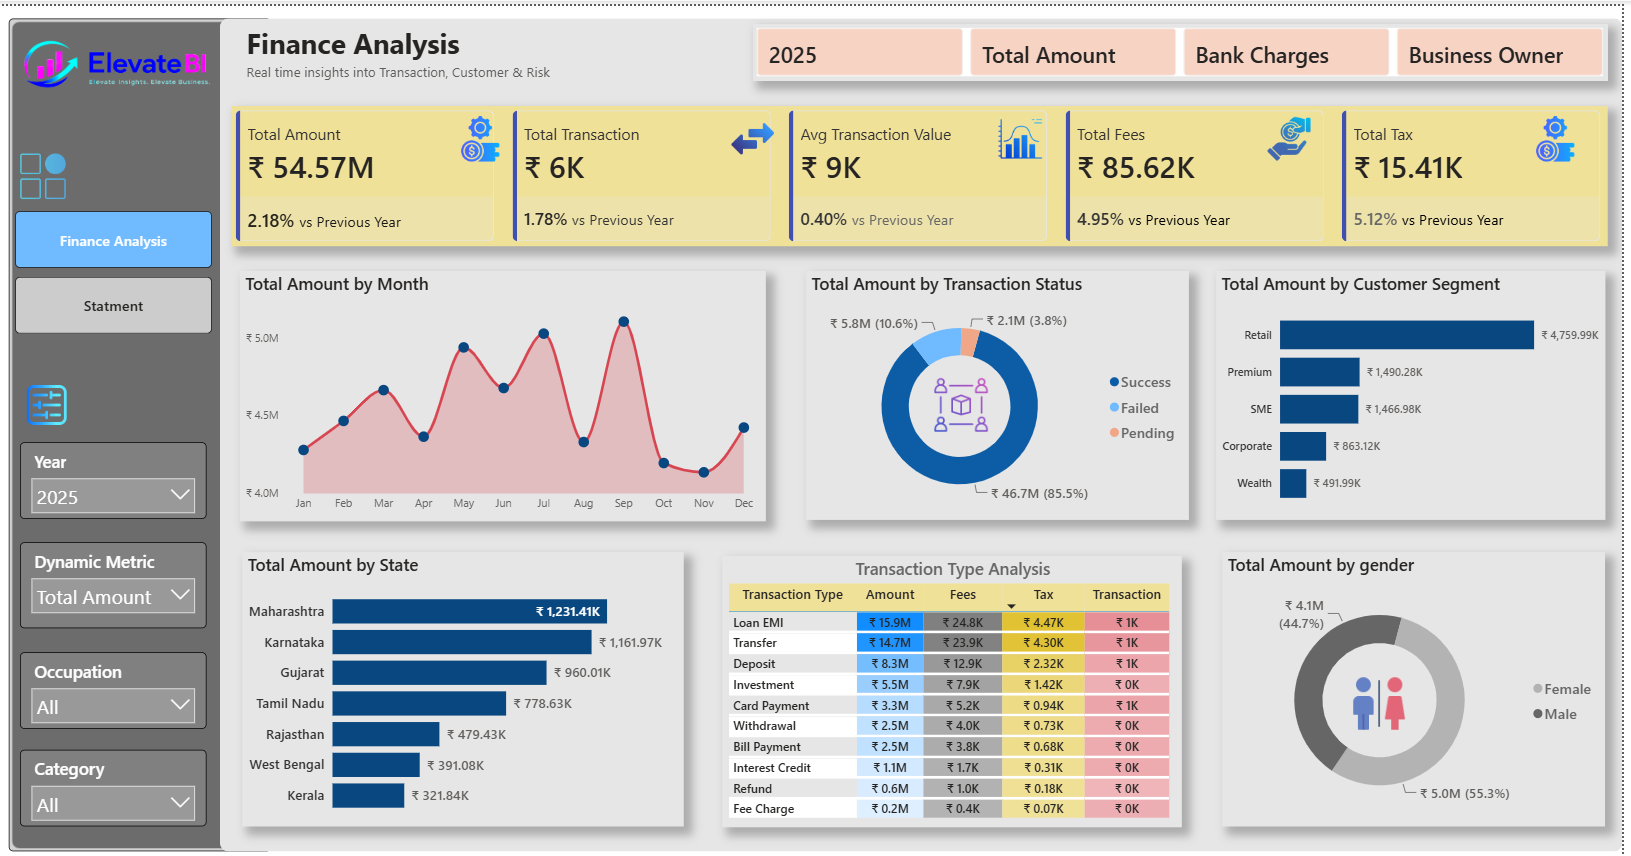

What the dashboard file says about the page in this screenshot:
{"tool":"powerbi","page":{"name":"Finance Analysis ","canvas":[1800,950],"ordinal":0},"visuals":[{"type":"shape","box":[15,13.3,290,921.7],"z":0},{"type":"shape","box":[248.3,13.3,1551.7,921.7],"z":1000},{"type":"image","box":[15,15,233.3,101.7],"z":2000},{"type":"cardVisual","fields":{"Data":["finance_transactions.Dashboard Title"]},"box":[261.7,13.3,370,75],"z":3000},{"type":"cardVisual","fields":{"Data":["finance_transactions.Total Amount","finance_transactions.Total Transaction","finance_transactions.Avg Transaction Value","finance_transactions.Total Fees","finance_transactions.Total Tax"]},"box":[261.7,110,1523.3,155],"z":4000},{"type":"slicer","fields":{"Values":["Calendra Table.Year"]},"box":[28.3,483.3,206.7,85],"z":5000},{"type":"image","box":[511.7,121.7,50,50],"z":6000},{"type":"image","box":[813.3,121.7,50,50],"z":7000},{"type":"image","box":[1110,121.7,50,50],"z":8000},{"type":"image","box":[1406.7,121.7,50,50],"z":9000},{"type":"image","box":[1701.7,121.7,50,50],"z":10000},{"type":"slicer","fields":{"Values":["Dynamic Metric.Dynamic Metric"]},"box":[28.3,593.3,206.7,95],"z":11000},{"type":"areaChart","fields":{"Y":["finance_transactions.Total Fees"],"Category":["Calendra Table.Month"]},"box":[271.7,293.3,581.7,276.7],"z":13000},{"type":"donutChart","fields":{"Y":["finance_transactions.Total Fees"],"Category":["finance_transactions.transaction_status"]},"box":[898.3,293.3,423.3,275],"z":15000},{"type":"barChart","fields":{"Y":["finance_transactions.Total Fees"],"Category":["customers.customer_segment"]},"box":[1351.7,293.3,430,275],"z":17000},{"type":"barChart","fields":{"Y":["finance_transactions.Total Fees"],"Category":["customers.state"]},"box":[273.3,605,488.3,303.3],"z":19000},{"type":"tableEx","title":"Transaction Type Analysis","fields":{"Values":["finance_transactions.transaction_type","finance_transactions.Total Amount","finance_transactions.Total Fees","finance_transactions.Total Tax","finance_transactions.Total Transaction"]},"box":[805,608.3,508.3,300],"z":21000},{"type":"donutChart","fields":{"Y":["finance_transactions.Total Fees"],"Category":["customers.gender"]},"box":[1358.3,605,423.3,303.3],"z":23000},{"type":"image","box":[1034,410,68,64],"z":24000},{"type":"image","box":[1492,738,78,66],"z":25000},{"type":"slicer","fields":{"Values":["customers.occupation"]},"box":[28.3,715,206.7,85],"z":26000},{"type":"slicer","fields":{"Values":["finance_transactions.merchant_category"]},"box":[28.3,823.3,206.7,85],"z":27000},{"type":"pageNavigator","box":[21.7,226.7,218.3,136.7],"z":28000},{"type":"image","box":[26.7,163.3,53.3,50],"z":29000},{"type":"image","box":[30,416.7,53.3,50],"z":30000},{"type":"cardVisual","fields":{"Data":["finance_transactions.Selected Year","finance_transactions.Selected Dynamic Measure","Min(finance_transactions.merchant_category)","Min(customers.occupation)"]},"box":[838.3,20,946.7,63.3],"z":31000}]}

Visuals, with their boxes on the page's 1800x950 design canvas (x1, y1, x2, y2). These are canvas units, not pixel positions in the 1631x856 screenshot, which may show the page scaled, cropped or inside an application window:
shape: x1=15 y1=13 x2=305 y2=935
shape: x1=248 y1=13 x2=1800 y2=935
image: x1=15 y1=15 x2=248 y2=117
cardVisual - finance_transactions.Dashboard Title: x1=262 y1=13 x2=632 y2=88
cardVisual - finance_transactions.Total Amount x finance_transactions.Total Transaction: x1=262 y1=110 x2=1785 y2=265
slicer - Calendra Table.Year: x1=28 y1=483 x2=235 y2=568
image: x1=512 y1=122 x2=562 y2=172
image: x1=813 y1=122 x2=863 y2=172
image: x1=1110 y1=122 x2=1160 y2=172
image: x1=1407 y1=122 x2=1457 y2=172
image: x1=1702 y1=122 x2=1752 y2=172
slicer - Dynamic Metric.Dynamic Metric: x1=28 y1=593 x2=235 y2=688
areaChart - finance_transactions.Total Fees x Calendra Table.Month: x1=272 y1=293 x2=853 y2=570
donutChart - finance_transactions.Total Fees x finance_transactions.transaction_status: x1=898 y1=293 x2=1322 y2=568
barChart - finance_transactions.Total Fees x customers.customer_segment: x1=1352 y1=293 x2=1782 y2=568
barChart - finance_transactions.Total Fees x customers.state: x1=273 y1=605 x2=762 y2=908
"Transaction Type Analysis" tableEx: x1=805 y1=608 x2=1313 y2=908
donutChart - finance_transactions.Total Fees x customers.gender: x1=1358 y1=605 x2=1782 y2=908
image: x1=1034 y1=410 x2=1102 y2=474
image: x1=1492 y1=738 x2=1570 y2=804
slicer - customers.occupation: x1=28 y1=715 x2=235 y2=800
slicer - finance_transactions.merchant_category: x1=28 y1=823 x2=235 y2=908
pageNavigator: x1=22 y1=227 x2=240 y2=363
image: x1=27 y1=163 x2=80 y2=213
image: x1=30 y1=417 x2=83 y2=467
cardVisual - finance_transactions.Selected Year x finance_transactions.Selected Dynamic Measure: x1=838 y1=20 x2=1785 y2=83
